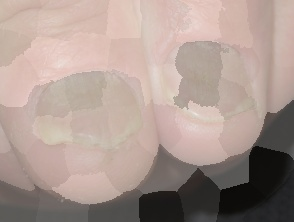Nail_psoriasis: (148, 26, 270, 132), (28, 64, 152, 155)
